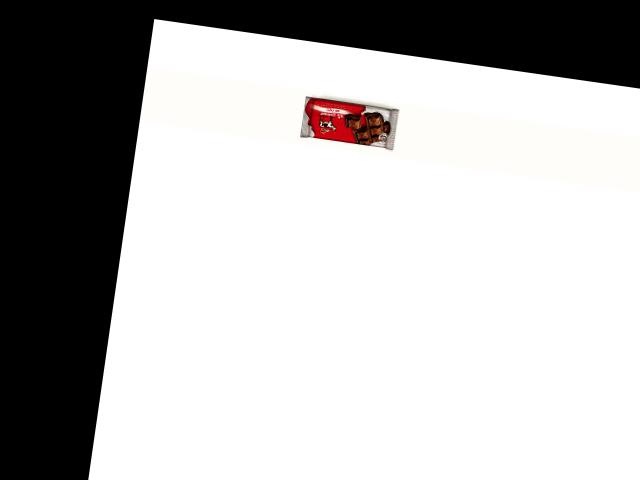chocolate: (285, 71, 403, 145)
